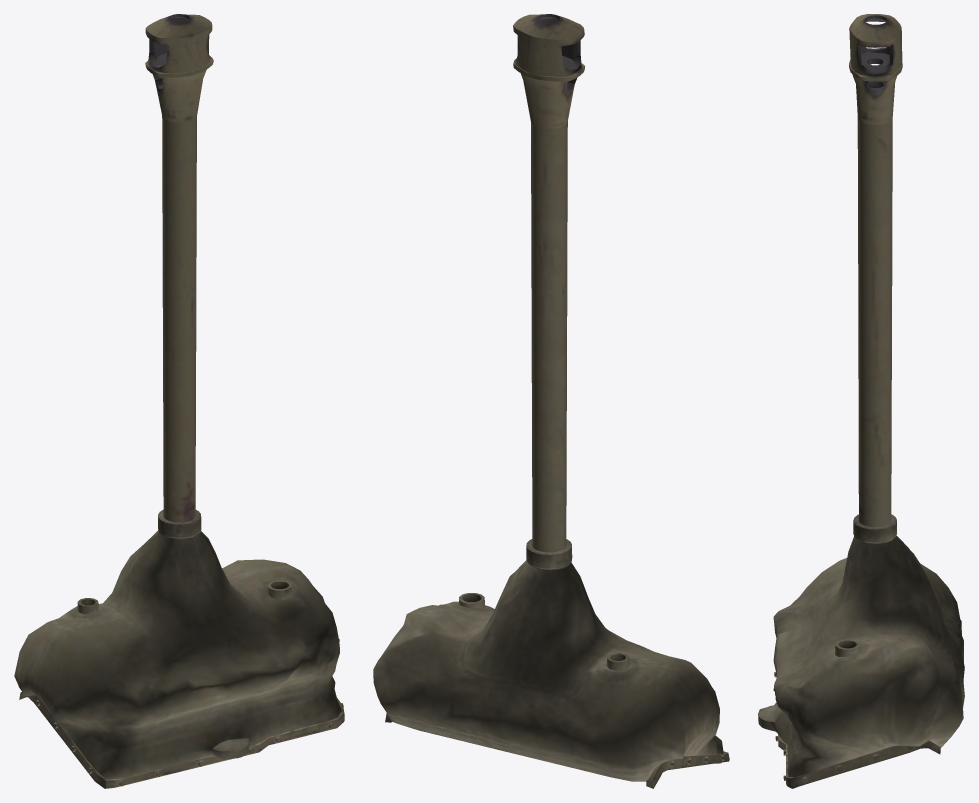
The model's file is Gun_07.glb.
The picture shows the model from 3 angles, left to right: view 1: azimuth 30°, elevation 25°; view 2: azimuth 150°, elevation 25°; view 3: azimuth 270°, elevation 25°; orthographic projection. The views are drawn at different scales.
Visible parts, largest first — view 1: set_0_group_0; view 2: set_0_group_0; view 3: set_0_group_0.
Part boxes in pixels (bbox=[...]): set_0_group_0: bbox=[14, 14, 344, 788]; set_0_group_0: bbox=[373, 14, 729, 788]; set_0_group_0: bbox=[758, 14, 964, 788].
Bounding box in the file's own units: 1.51 × 3.53 × 0.929.
Materials: 1 (1 with a texture image).
